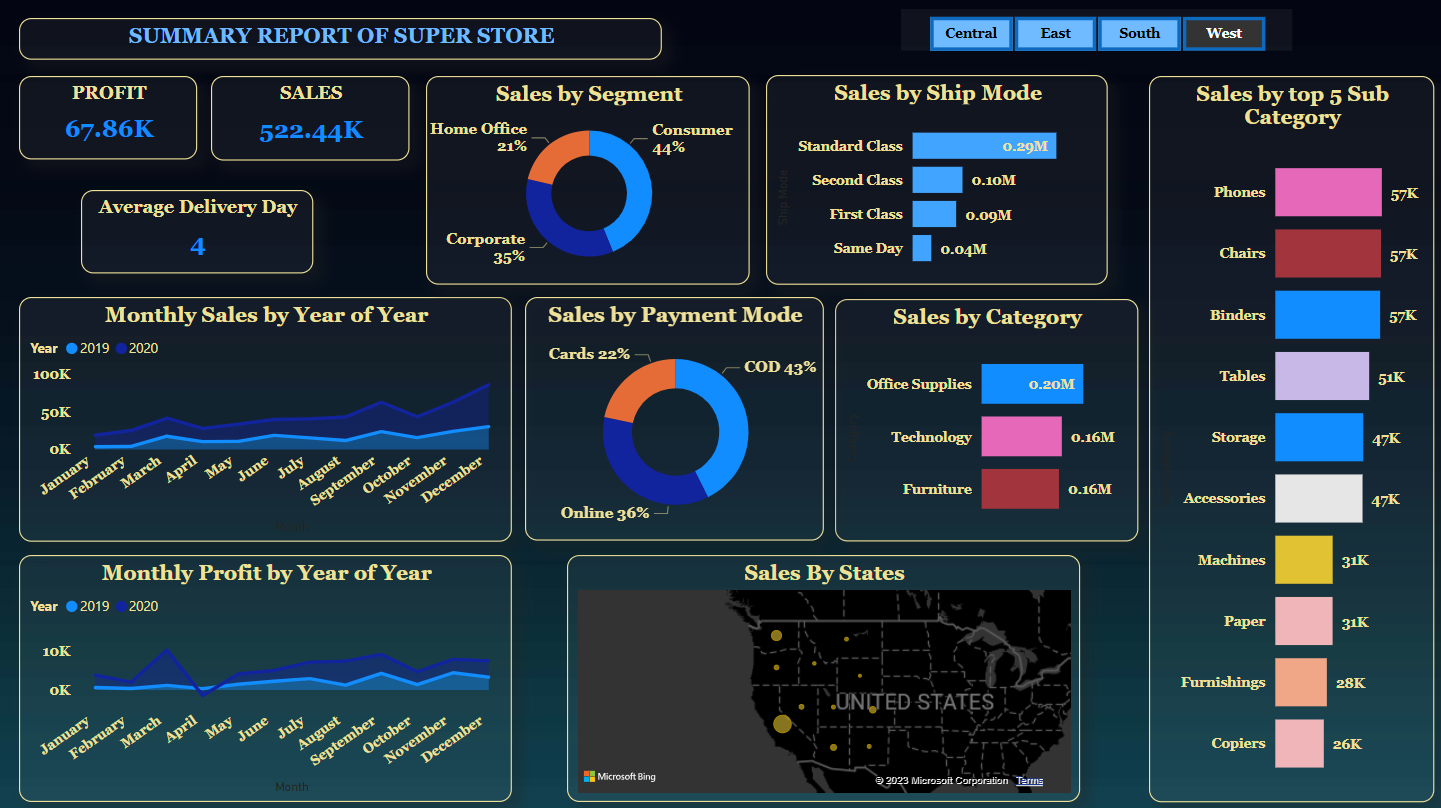

The dashboard page shown, as its layout file describes it:
{"tool":"powerbi","page":{"name":"Page 1","canvas":[1280,720],"ordinal":0},"visuals":[{"type":"clusteredBarChart","title":"Sales by Category","fields":{"Category":["SuperStore_Sales_Dataset.Category"],"Y":["Sum(SuperStore_Sales_Dataset.Sales)"]},"box":[740.4,266,268.7,214.6],"z":0},{"type":"clusteredBarChart","title":"Sales by top 5 Sub Category","fields":{"Y":["Sum(SuperStore_Sales_Dataset.Sales)"],"Category":["SuperStore_Sales_Dataset.Sub-Category"]},"box":[1018.8,68.3,252.7,643.7],"z":1000},{"type":"clusteredBarChart","title":"Sales by Ship Mode","fields":{"Y":["Sum(SuperStore_Sales_Dataset.Sales)"],"Category":["SuperStore_Sales_Dataset.Ship Mode"]},"box":[679.2,67.4,303.3,186.2],"z":2000},{"type":"stackedAreaChart","title":"Monthly Sales by Year of Year","fields":{"Y":["Sum(SuperStore_Sales_Dataset.Sales)"],"Series":["SuperStore_Sales_Dataset.Order Date.Variation.Date Hierarchy.Year"],"Category":["SuperStore_Sales_Dataset.Order Date.Variation.Date Hierarchy.Month"]},"box":[16.8,264.2,437.1,217.2],"z":3000},{"type":"stackedAreaChart","title":"Monthly Profit by Year of Year","fields":{"Series":["SuperStore_Sales_Dataset.Order Date.Variation.Date Hierarchy.Year"],"Category":["SuperStore_Sales_Dataset.Order Date.Variation.Date Hierarchy.Month"],"Y":["Sum(SuperStore_Sales_Dataset.Profit)"]},"box":[16.8,493,437.1,219],"z":4000},{"type":"map","title":"Sales By States","fields":{"Category":["SuperStore_Sales_Dataset.State"],"Size":["Sum(SuperStore_Sales_Dataset.Sales)"]},"box":[502.8,493,454.9,219],"z":5000},{"type":"donutChart","title":"Sales by Segment","fields":{"Category":["SuperStore_Sales_Dataset.Segment"],"Y":["Sum(SuperStore_Sales_Dataset.Sales)"]},"box":[377.7,68.3,287.3,185.3],"z":6000},{"type":"donutChart","title":"Sales by Payment Mode","fields":{"Y":["Sum(SuperStore_Sales_Dataset.Sales)"],"Category":["SuperStore_Sales_Dataset.Payment Mode"]},"box":[465.5,264.2,265.1,216.4],"z":7000},{"type":"slicer","fields":{"Values":["SuperStore_Sales_Dataset.Region"]},"box":[798.9,8.9,346.7,37.2],"z":8000},{"type":"textbox","title":"SUMMARY REPORT OF SUPER STORE","box":[16.8,16.8,570.1,37.2],"z":9000},{"type":"card","title":"PROFIT","fields":{"Values":["Sum(SuperStore_Sales_Dataset.Profit)"]},"box":[16.8,68.3,157.8,73.6],"z":10000},{"type":"card","title":"SALES","fields":{"Values":["Sum(SuperStore_Sales_Dataset.Sales)"]},"box":[187.1,68.3,175.6,75.4],"z":11000},{"type":"card","title":"Average Delivery Day","fields":{"Values":["Avg(SuperStore_Sales_Dataset.AvgDelivery)"]},"box":[71.8,169.4,205.7,73.6],"z":12000}]}

Visuals, with their boxes in screenshot pixels (x1, y1, x2, y2), scaled from the page's 1280x720 canvas onto the 1441x808 screenshot:
"Sales by Category" clusteredBarChart: (834,299,1136,539)
"Sales by top 5 Sub Category" clusteredBarChart: (1147,77,1431,799)
"Sales by Ship Mode" clusteredBarChart: (765,76,1106,285)
"Monthly Sales by Year of Year" stackedAreaChart: (19,296,511,540)
"Monthly Profit by Year of Year" stackedAreaChart: (19,553,511,799)
"Sales By States" map: (566,553,1078,799)
"Sales by Segment" donutChart: (425,77,749,285)
"Sales by Payment Mode" donutChart: (524,296,822,539)
slicer - SuperStore_Sales_Dataset.Region: (899,10,1290,52)
"SUMMARY REPORT OF SUPER STORE" textbox: (19,19,661,61)
"PROFIT" card: (19,77,197,159)
"SALES" card: (211,77,408,161)
"Average Delivery Day" card: (81,190,312,273)
